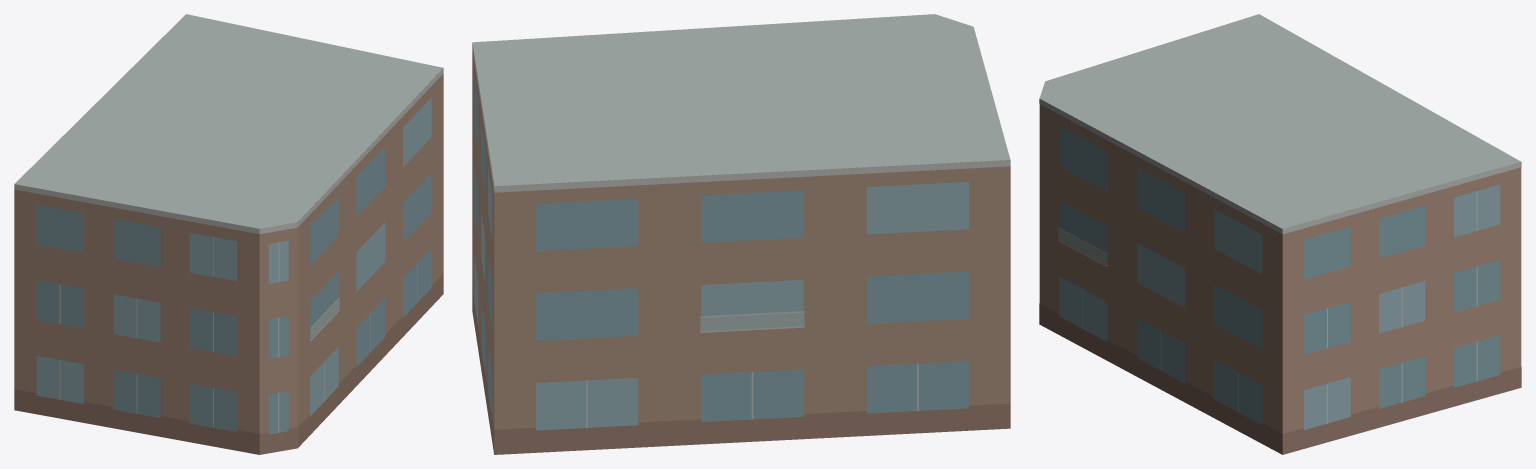
File: survey-upis-32762143.glb
The picture shows the model from 3 angles, left to right: view 1: azimuth 30°, elevation 25°; view 2: azimuth 150°, elevation 25°; view 3: azimuth 270°, elevation 25°; orthographic projection. The views are drawn at different scales.
Parts seen in each view (by area): view 1: survey-upis-32762143.tmp; view 2: survey-upis-32762143.tmp; view 3: survey-upis-32762143.tmp.
Part boxes in pixels (x1,y1,x2,y2): survey-upis-32762143.tmp: (14, 14, 443, 454); survey-upis-32762143.tmp: (472, 14, 1010, 454); survey-upis-32762143.tmp: (1039, 14, 1521, 454).
Bounding box in the file's own units: 20.83 × 10.2 × 19.74.
